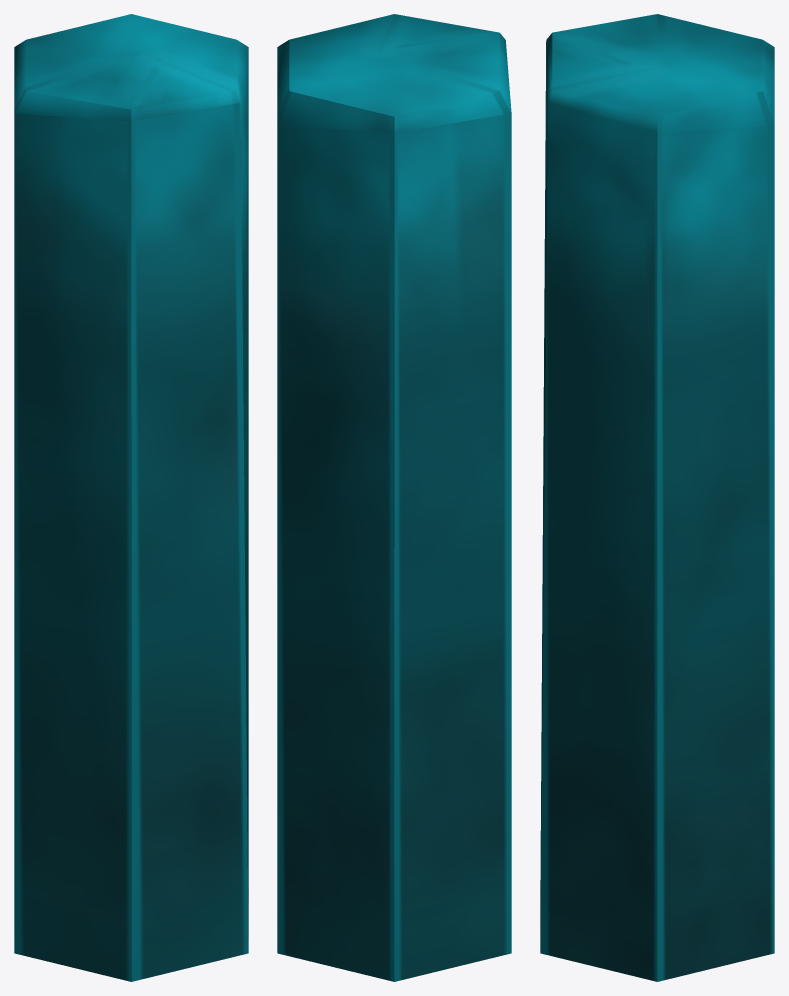
File: parede pilar.fbx
3 views of the same model, side by side, from view 1: azimuth 30°, elevation 25°; view 2: azimuth 150°, elevation 25°; view 3: azimuth 270°, elevation 25° (orthographic).
Visible parts, largest first — view 1: parede 1; view 2: parede 1; view 3: parede 1.
Part boxes in pixels (x1,y1,x2,y2): parede 1: (14,14,248,981); parede 1: (277,14,511,981); parede 1: (540,14,774,981).
Bounding box in the file's own units: 57.03 × 202 × 49.39.
1 material, 1 textured.
